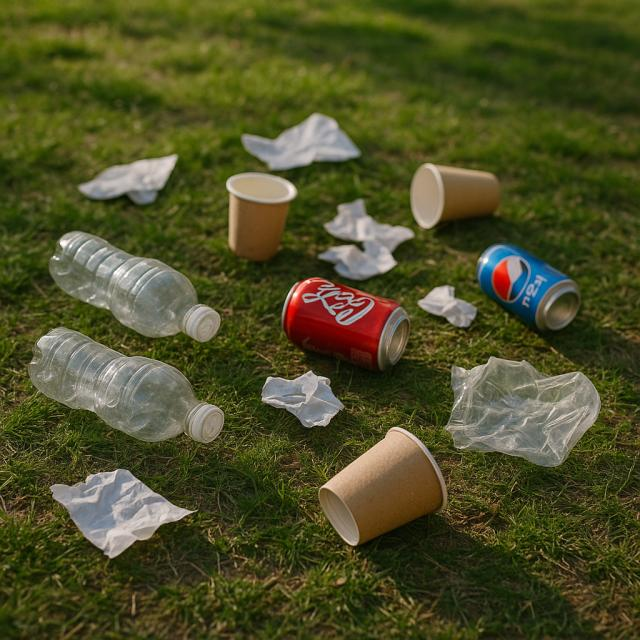aluminum: (281, 278, 411, 372), (468, 242, 584, 332)
paper: (314, 428, 449, 542), (44, 472, 196, 556), (404, 158, 500, 229), (242, 113, 358, 170), (227, 167, 295, 262), (76, 154, 179, 209), (254, 371, 349, 427), (418, 284, 478, 331)
plastic: (27, 333, 225, 450), (43, 230, 221, 346)
